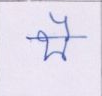e_matra: (49, 12, 73, 35)
